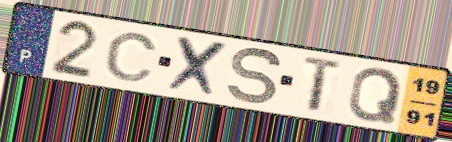2: (49, 18, 102, 81)
C: (103, 31, 161, 83)
Q: (345, 66, 405, 124)
S: (225, 46, 285, 107)
T: (301, 54, 346, 115)
X: (165, 34, 232, 101)
